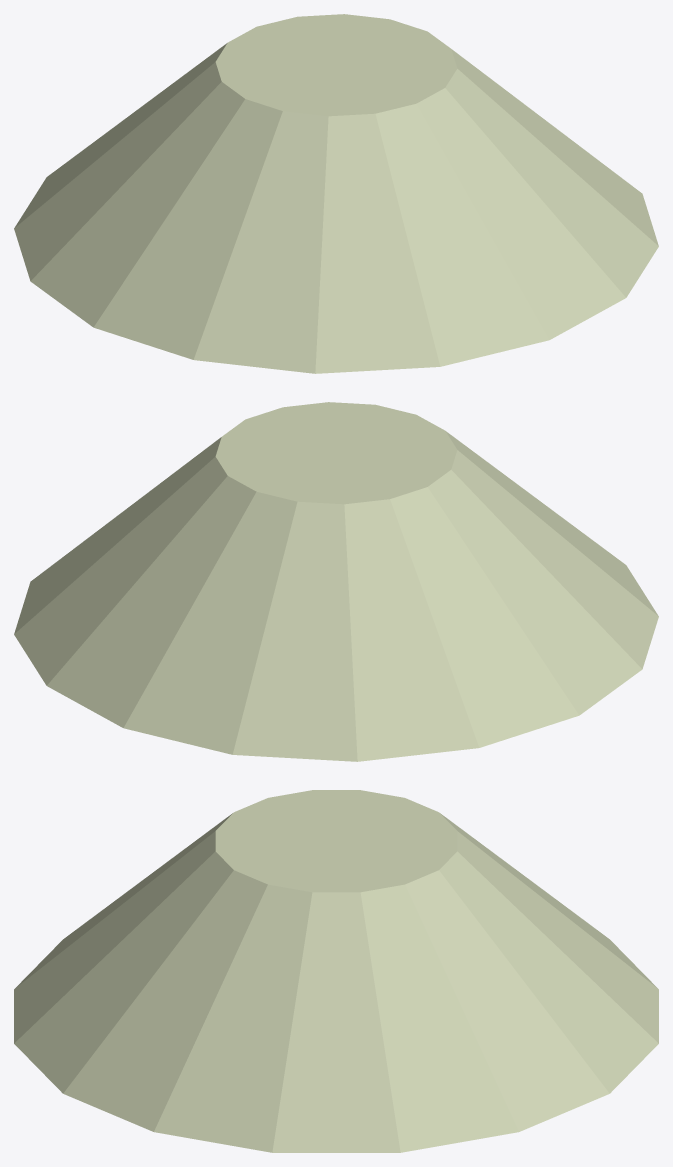
File: aquila_adapter_s2_s0p5_1_collider.obj
The picture shows the model from 3 angles, top to bottom: view 1: azimuth 30°, elevation 25°; view 2: azimuth 150°, elevation 25°; view 3: azimuth 270°, elevation 25°; orthographic projection.
Visible parts, largest first — view 1: aquila_adapter_s2_s0p5_1_collider; view 2: aquila_adapter_s2_s0p5_1_collider; view 3: aquila_adapter_s2_s0p5_1_collider.
Boxes of the visible parts, left/top/right/bottom form: aquila_adapter_s2_s0p5_1_collider: left=14, top=14, right=658, bottom=373; aquila_adapter_s2_s0p5_1_collider: left=14, top=402, right=658, bottom=761; aquila_adapter_s2_s0p5_1_collider: left=14, top=790, right=658, bottom=1152.
Bounding box in the file's own units: 2.5 × 0.75 × 2.5.
